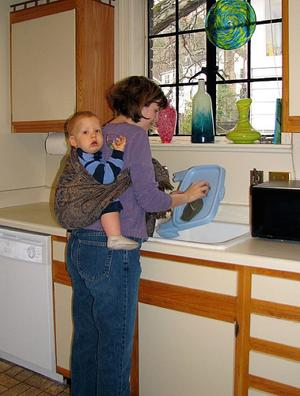person: (63, 76, 211, 396)
